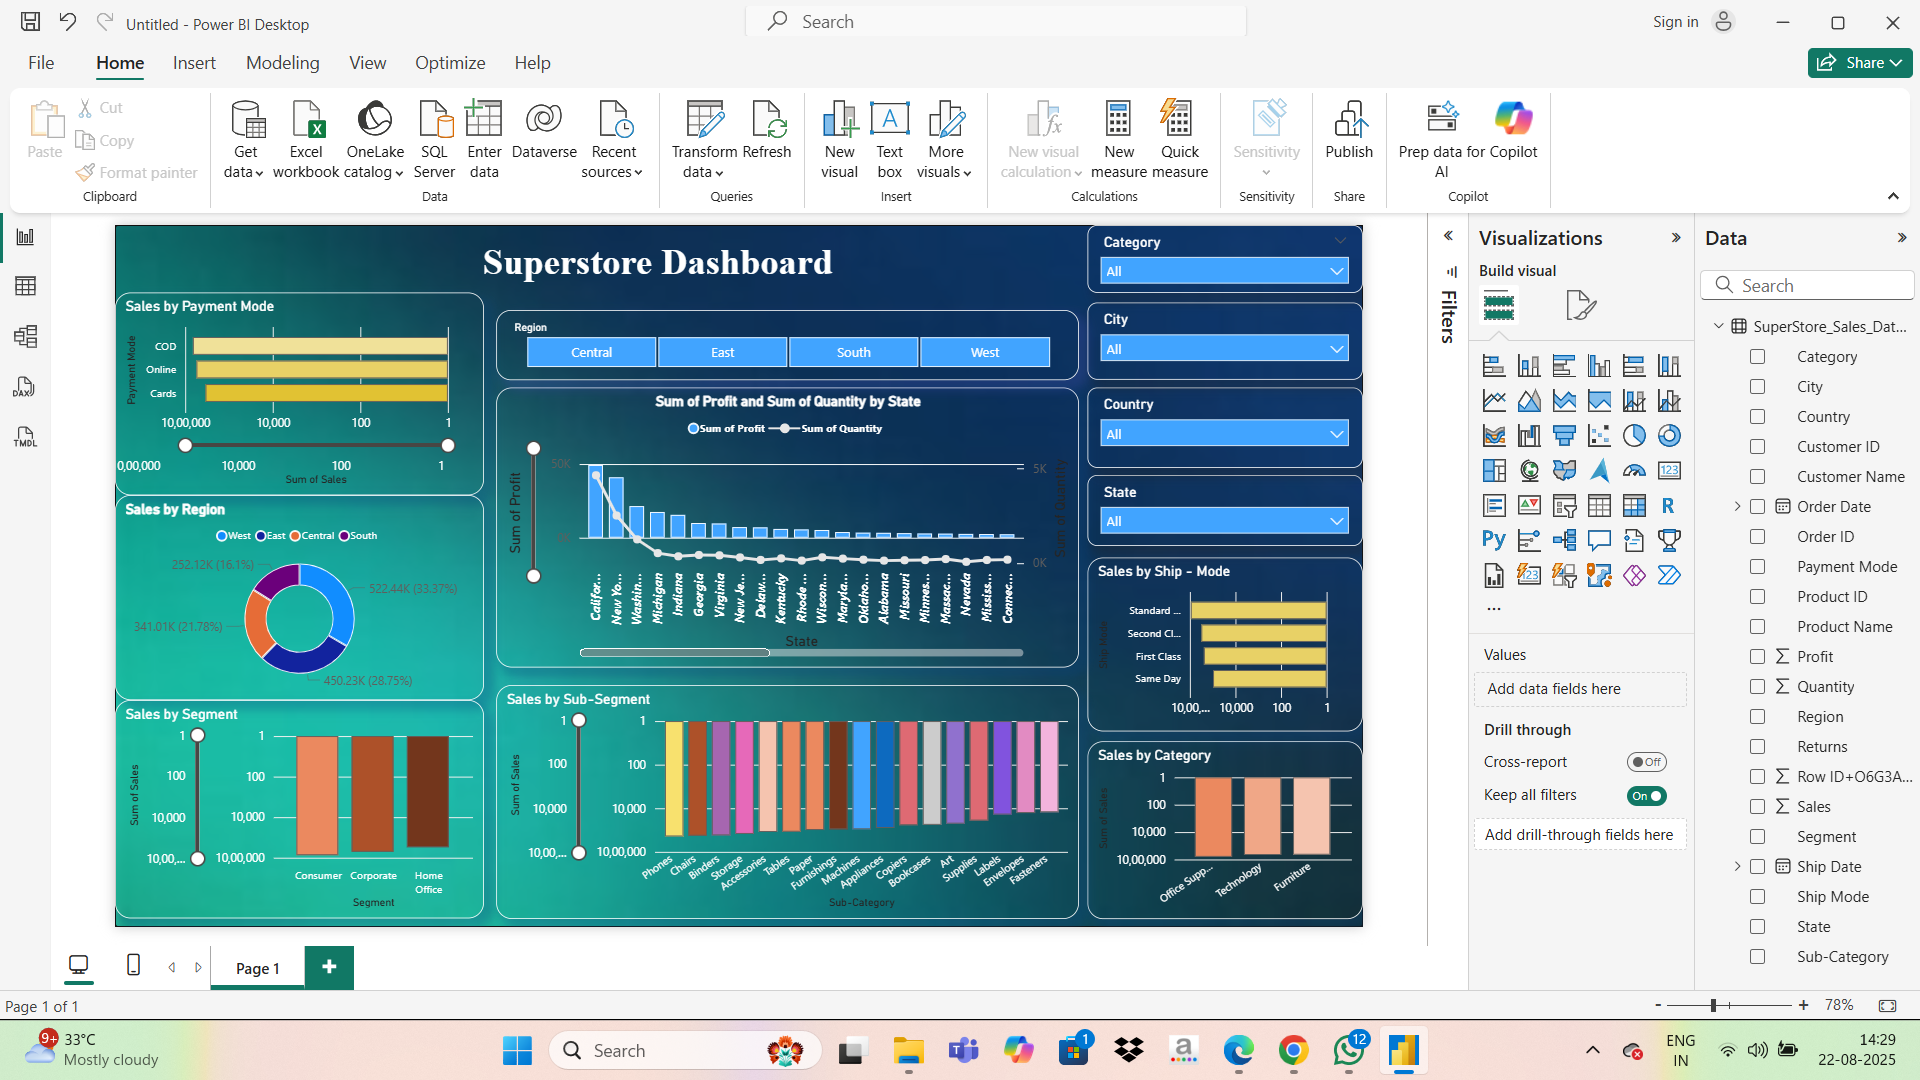

Layout of this report page (visuals, bound fields, positions):
{"tool":"powerbi","page":{"name":"Page 1","canvas":[1280,720],"ordinal":0},"visuals":[{"type":"barChart","title":" Sales by Payment Mode","fields":{"Y":["Sum(SuperStore_Sales_Dataset.Sales)"],"Category":["SuperStore_Sales_Dataset.Payment Mode"]},"box":[0,69.2,378.2,207.7],"z":0},{"type":"donutChart","title":" Sales by Region","fields":{"Y":["Sum(SuperStore_Sales_Dataset.Sales)"],"Category":["SuperStore_Sales_Dataset.Region"]},"box":[0,276.9,378.2,210.3],"z":1000},{"type":"columnChart","title":" Sales by Segment","fields":{"Category":["SuperStore_Sales_Dataset.Segment"],"Y":["Sum(SuperStore_Sales_Dataset.Sales)"]},"box":[0,487.2,378.2,224.4],"z":2000},{"type":"columnChart","title":" Sales by Category","fields":{"Category":["SuperStore_Sales_Dataset.Category"],"Y":["Sum(SuperStore_Sales_Dataset.Sales)"]},"box":[997.4,529.5,282.1,182.1],"z":3000},{"type":"columnChart","title":" Sales by Sub-Segment","fields":{"Category":["SuperStore_Sales_Dataset.Sub-Category"],"Y":["Sum(SuperStore_Sales_Dataset.Sales)"]},"box":[391,471.8,597.4,239.7],"z":4000},{"type":"barChart","title":" Sales by Ship - Mode","fields":{"Y":["Sum(SuperStore_Sales_Dataset.Sales)"],"Category":["SuperStore_Sales_Dataset.Ship Mode"]},"box":[997.4,341,282.1,178.2],"z":5000},{"type":"lineClusteredColumnComboChart","fields":{"Category":["SuperStore_Sales_Dataset.State"],"Y":["Sum(SuperStore_Sales_Dataset.Profit)"],"Y2":["Sum(SuperStore_Sales_Dataset.Quantity)"]},"box":[391,166.7,597.4,287.2],"z":6000},{"type":"slicer","fields":{"Values":["SuperStore_Sales_Dataset.State"]},"box":[997.4,256.4,282.1,73.1],"z":7000},{"type":"slicer","fields":{"Values":["SuperStore_Sales_Dataset.Country"]},"box":[997.4,166.7,282.1,82.1],"z":8000},{"type":"slicer","fields":{"Values":["SuperStore_Sales_Dataset.City"]},"box":[997.4,79.5,282.1,79.5],"z":9000},{"type":"slicer","fields":{"Values":["SuperStore_Sales_Dataset.Category"]},"box":[997.4,0,282.1,69.2],"z":10000},{"type":"slicer","fields":{"Values":["SuperStore_Sales_Dataset.Region"]},"box":[391,87.2,597.4,71.8],"z":11000},{"type":"textbox","box":[125.6,11.5,862.8,57.7],"z":11001}]}

Visuals, with their boxes on the page's 1280x720 design canvas (x1, y1, x2, y2). These are canvas units, not pixel positions in the 1920x1080 screenshot, which may show the page scaled, cropped or inside an application window:
" Sales by Payment Mode" barChart: x1=0 y1=69 x2=378 y2=277
" Sales by Region" donutChart: x1=0 y1=277 x2=378 y2=487
" Sales by Segment" columnChart: x1=0 y1=487 x2=378 y2=712
" Sales by Category" columnChart: x1=997 y1=530 x2=1280 y2=712
" Sales by Sub-Segment" columnChart: x1=391 y1=472 x2=988 y2=712
" Sales by Ship - Mode" barChart: x1=997 y1=341 x2=1280 y2=519
lineClusteredColumnComboChart - SuperStore_Sales_Dataset.State x Sum(SuperStore_Sales_Dataset.Profit): x1=391 y1=167 x2=988 y2=454
slicer - SuperStore_Sales_Dataset.State: x1=997 y1=256 x2=1280 y2=330
slicer - SuperStore_Sales_Dataset.Country: x1=997 y1=167 x2=1280 y2=249
slicer - SuperStore_Sales_Dataset.City: x1=997 y1=80 x2=1280 y2=159
slicer - SuperStore_Sales_Dataset.Category: x1=997 y1=0 x2=1280 y2=69
slicer - SuperStore_Sales_Dataset.Region: x1=391 y1=87 x2=988 y2=159
textbox: x1=126 y1=12 x2=988 y2=69
